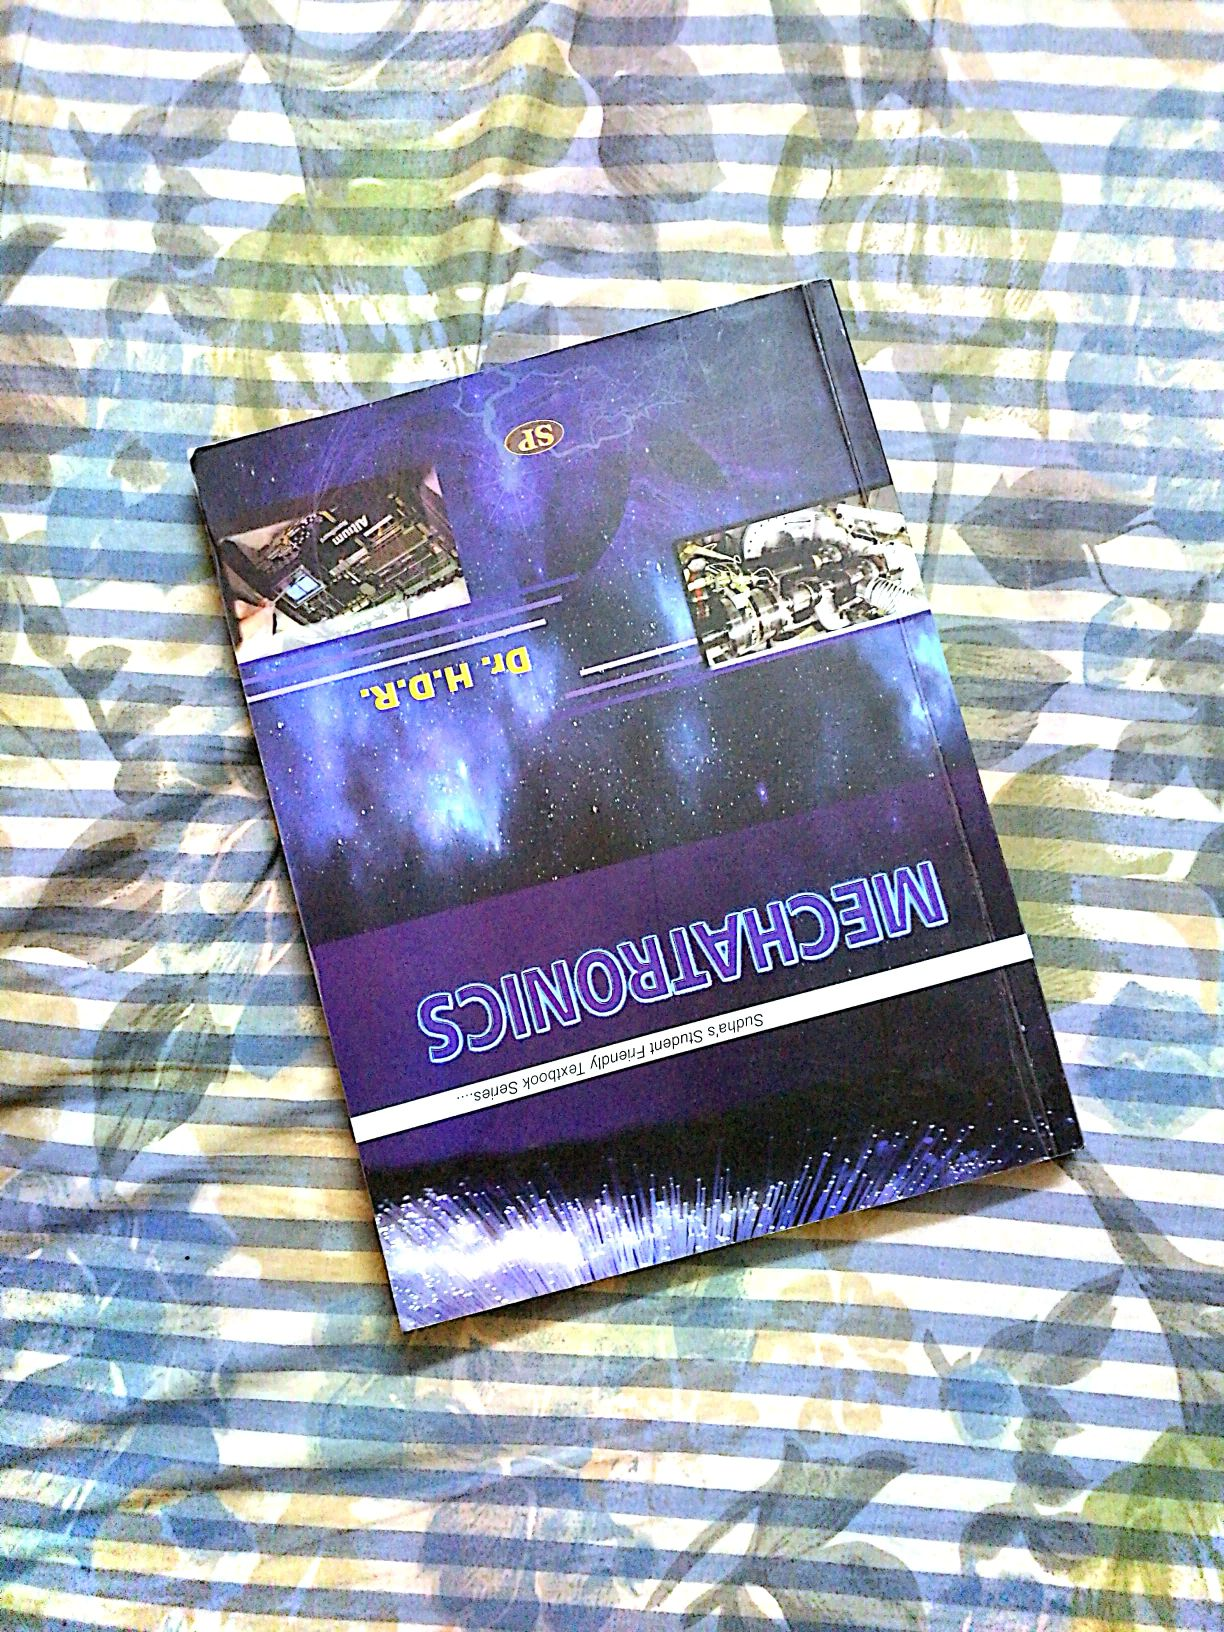mechatronics: (177, 293, 1077, 1351)
